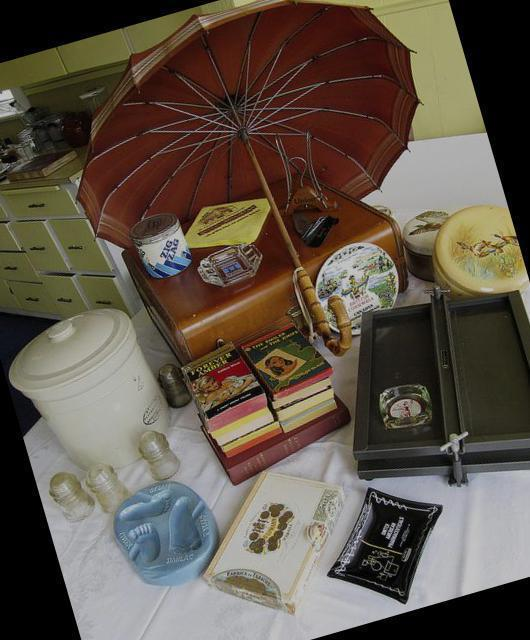Lavaplatos: (0, 126, 21, 199)
